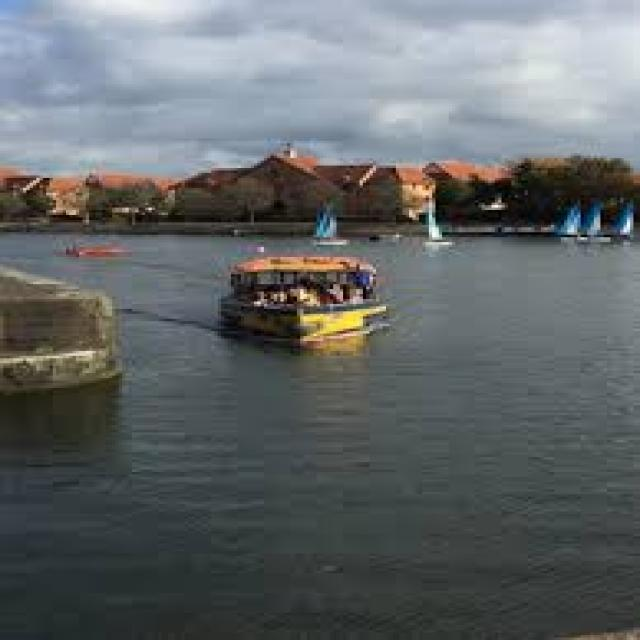passenger ship: (204, 239, 396, 349)
sailboat: (406, 177, 460, 259), (536, 183, 588, 245), (303, 201, 348, 249), (616, 180, 640, 250), (576, 191, 610, 237)
